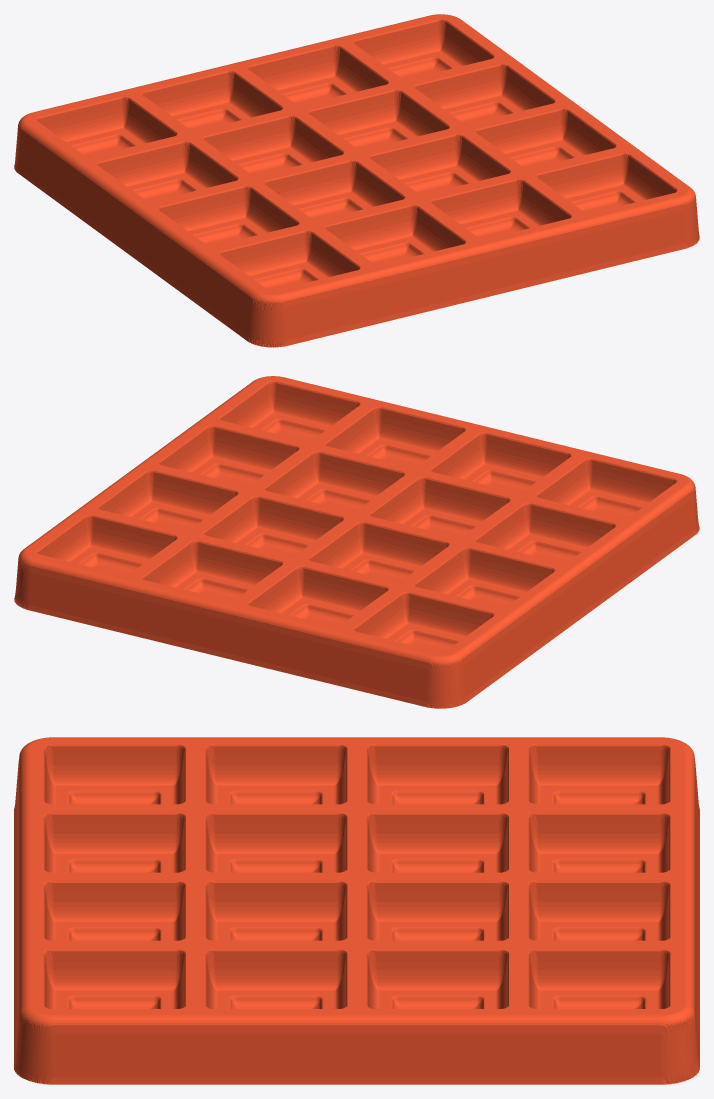
File: mold.glb
The picture shows the model from 3 angles, top to bottom: view 1: azimuth 30°, elevation 25°; view 2: azimuth 150°, elevation 25°; view 3: azimuth 270°, elevation 25°; orthographic projection. The views are drawn at different scales.
Visible parts, largest first — view 1: geometry_0; view 2: geometry_0; view 3: geometry_0.
Part boxes in pixels (box(x1,y1,x2,y2)): geometry_0: box(14, 14, 699, 347); geometry_0: box(14, 376, 699, 708); geometry_0: box(14, 737, 699, 1084).
Size of the model in its own units: 0.1569 by 0.0159 by 0.1569.
